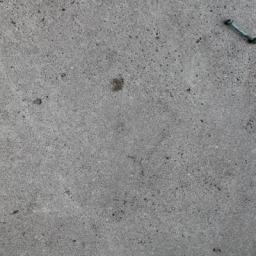FOD: (223, 18, 256, 47)
